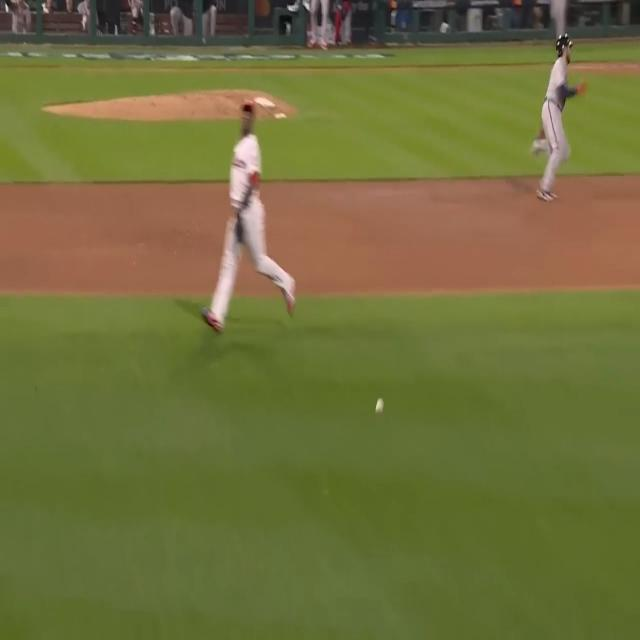baseball: (374, 397, 384, 418)
